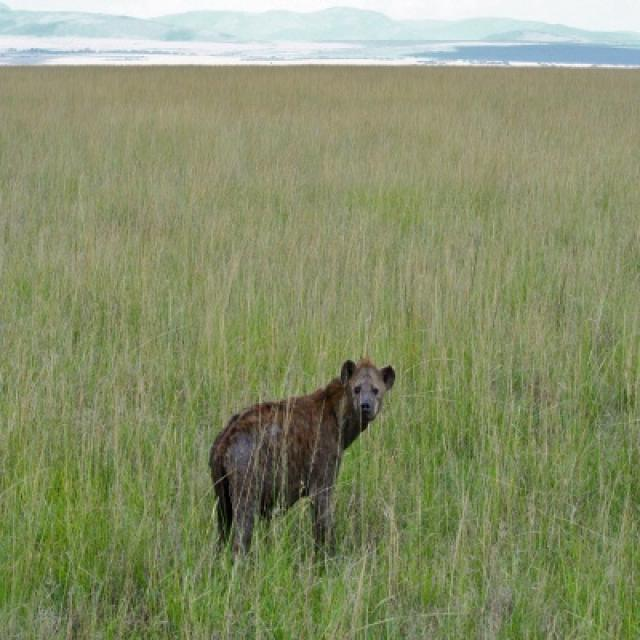hyena: (210, 358, 397, 558)
